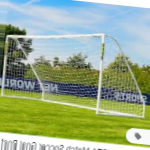goals: (1, 32, 146, 120)
